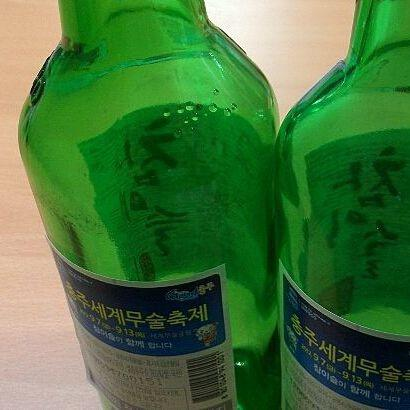soju: (14, 2, 409, 409)
